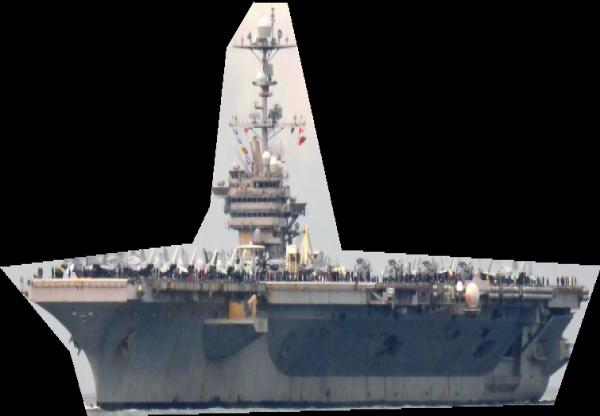Aircraft Carrier: (0, 1, 600, 416)
